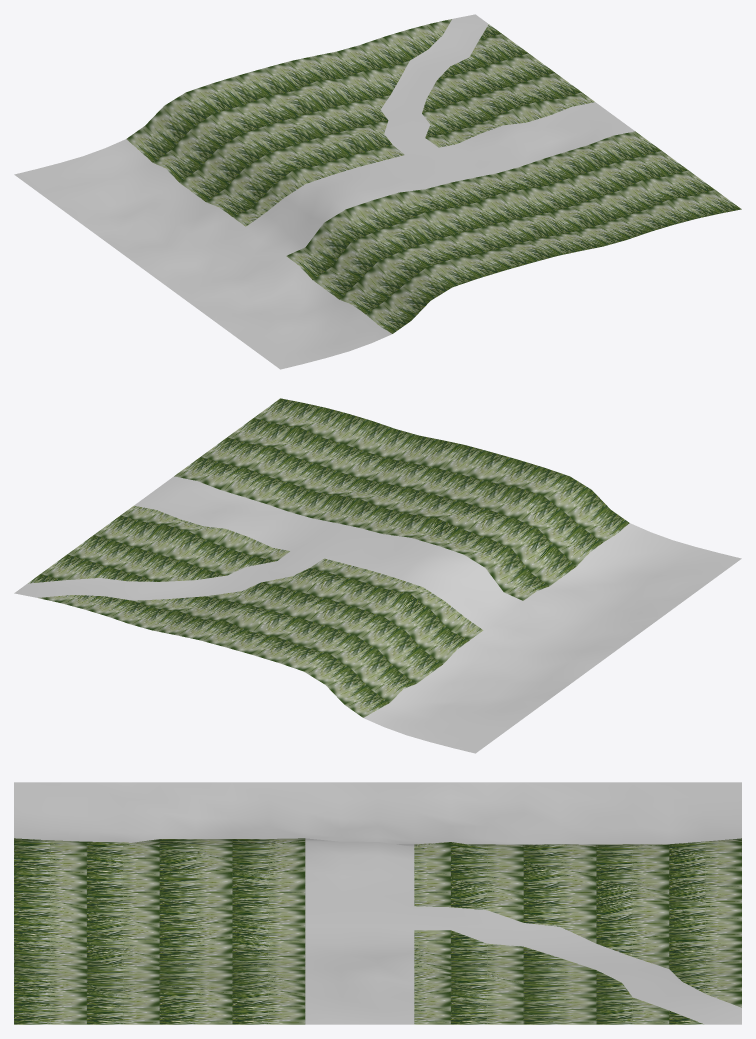
The model's file is SM_Grounds_01.FBX.
3 views of the same model, one above another, from view 1: azimuth 30°, elevation 25°; view 2: azimuth 150°, elevation 25°; view 3: azimuth 270°, elevation 25° (orthographic). The views are drawn at different scales.
Visible parts, largest first — view 1: SM_Grounds_01_LOD0; view 2: SM_Grounds_01_LOD0; view 3: SM_Grounds_01_LOD0.
Boxes of the visible parts, box(x1,y1,x2,y2) form: SM_Grounds_01_LOD0: box(14, 14, 741, 369); SM_Grounds_01_LOD0: box(14, 398, 741, 753); SM_Grounds_01_LOD0: box(14, 782, 741, 1024).
Size of what is drawn, in the model's own units: 50.21 by 5.57 by 50.21.
